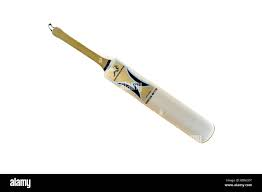bottom left: (189, 138, 204, 153)
bottom right: (204, 117, 219, 132)
top left: (101, 71, 115, 85)
top right: (111, 53, 122, 64)
